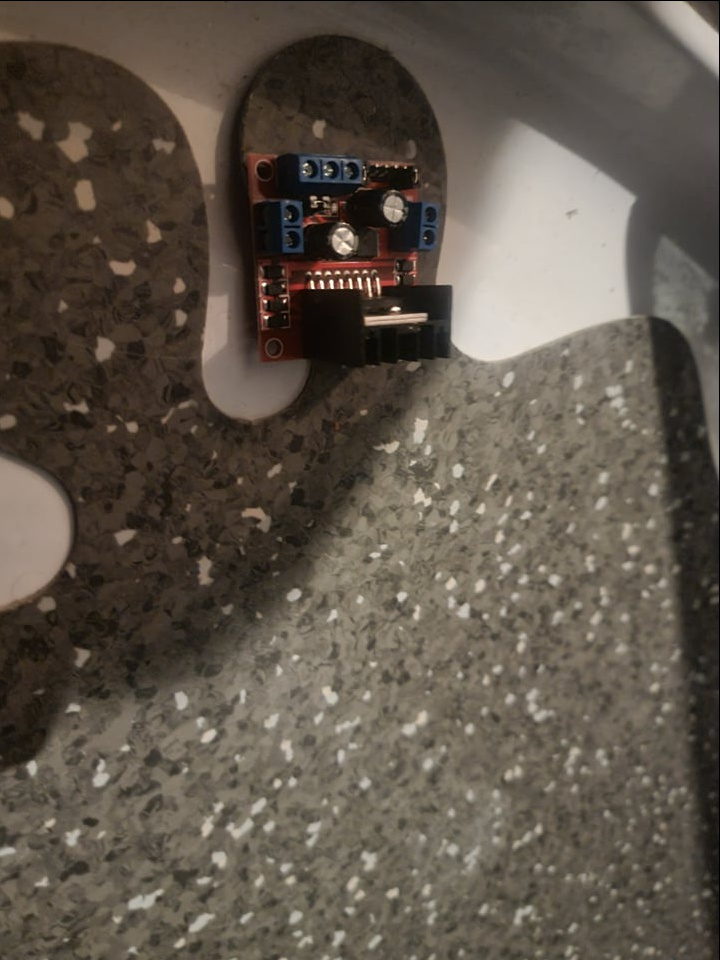MOTOR: (240, 143, 458, 364)
